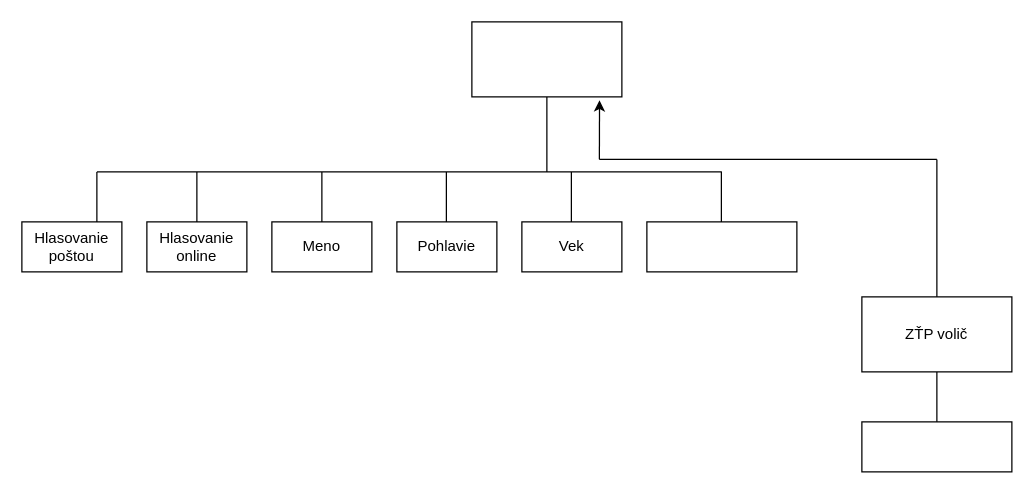
This 1034x494 diagram has some shape labels left out. The box of each missing label's shape, as (x1, y1, x2, y2) in pixels:
Miesto hlasovania(štát): (646, 221, 797, 272)
Volebná komisia príde domov: (861, 421, 1012, 472)
volič: (471, 21, 622, 97)
